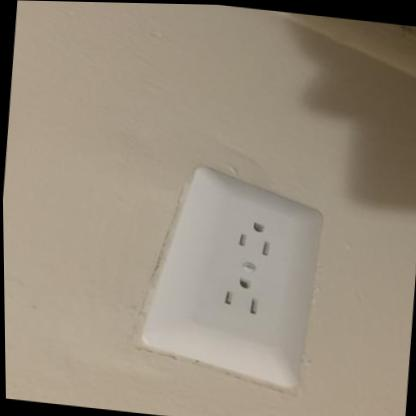OUTLET: (149, 160, 330, 393)
